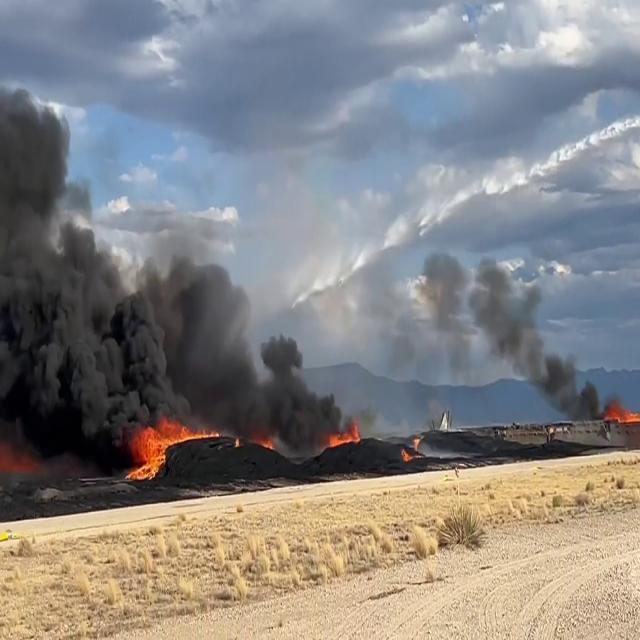Fire: (126, 411, 188, 481), (322, 422, 366, 454), (603, 398, 640, 430)
Smoke: (0, 63, 346, 480), (412, 248, 604, 428)
